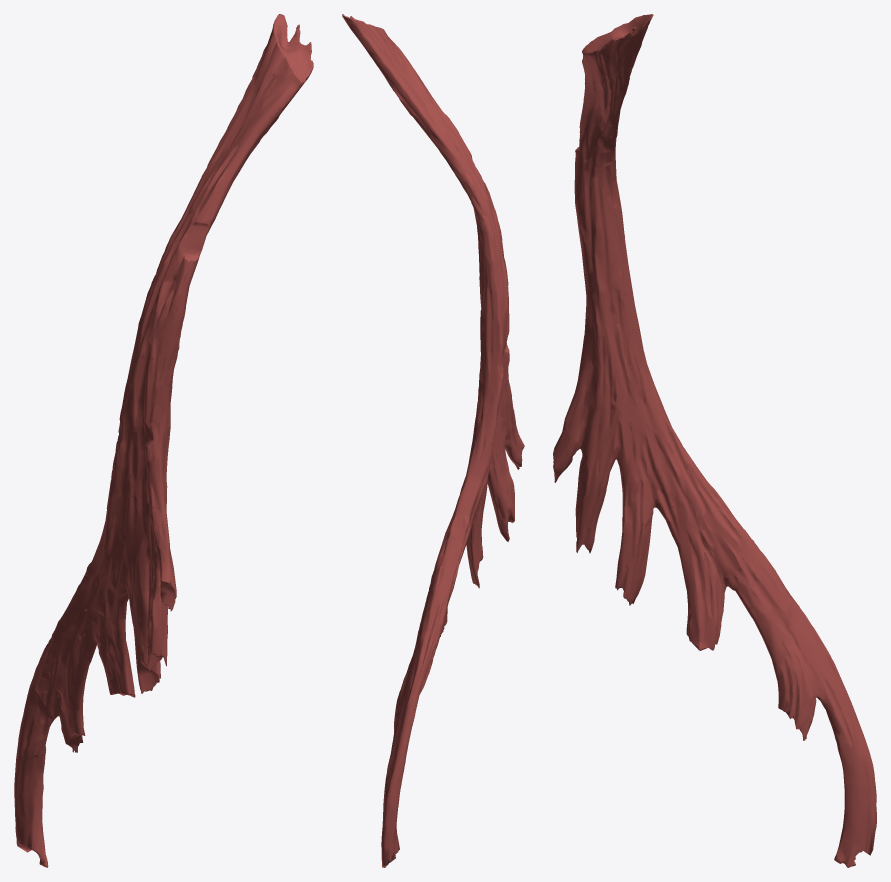
The model's file is FMA22756.glb.
3 renders of one model, left to right at view 1: azimuth 30°, elevation 25°; view 2: azimuth 150°, elevation 25°; view 3: azimuth 270°, elevation 25°, orthographic. The views are drawn at different scales.
Visible parts, largest first — view 1: FMA22756; view 2: FMA22756; view 3: FMA22756.
Part boxes in pixels (x1=…): FMA22756: x1=14, y1=14, x2=313, y2=867; FMA22756: x1=342, y1=14, x2=524, y2=867; FMA22756: x1=553, y1=14, x2=876, y2=867.
Bounding box in the file's own units: 0.034 × 0.1549 × 0.0492.
